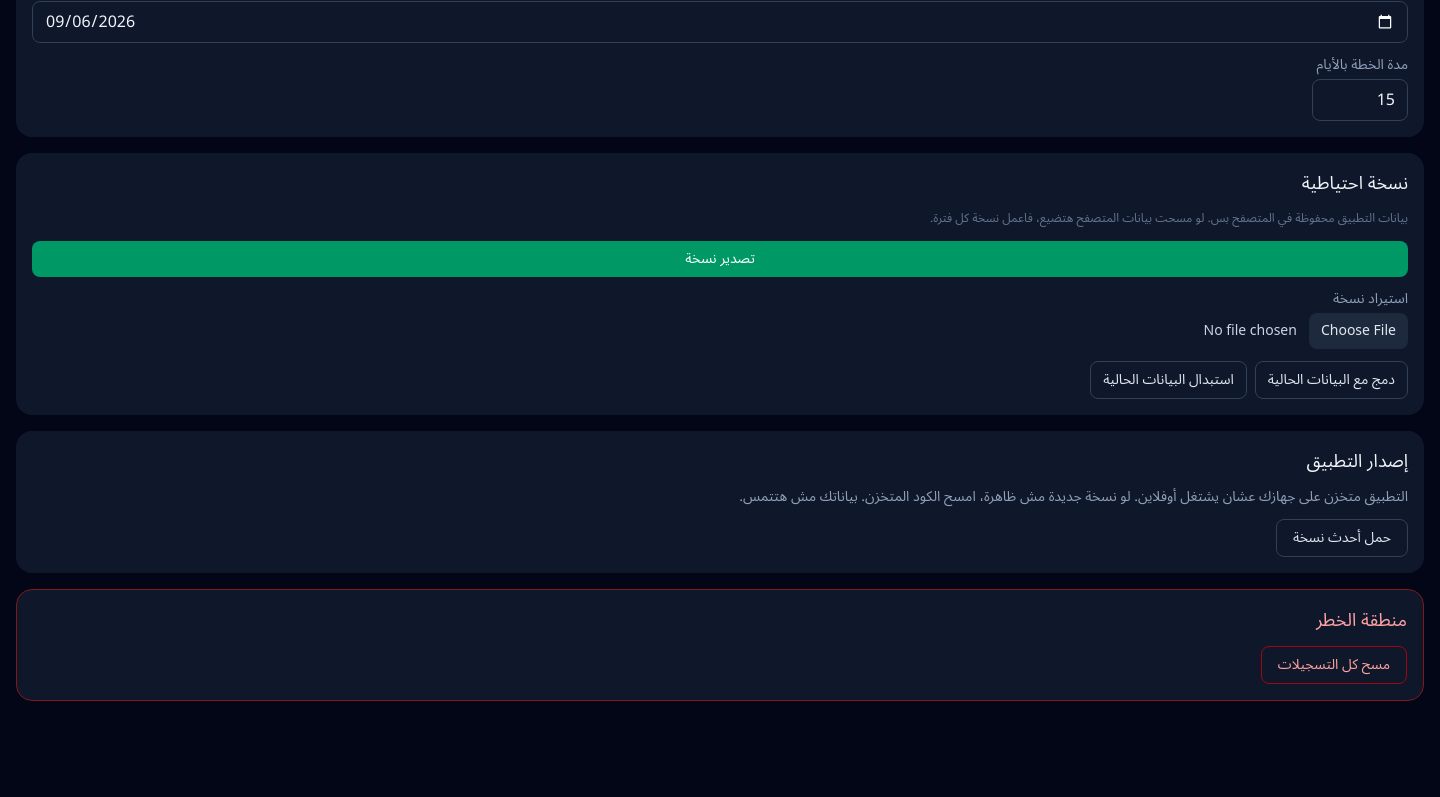
Test case: SettingsScreen › asks for confirmation before deleting every log
The image size is (1440, 797).
(page scrolled)
Click the button "مسح كل التسجيلات" at (1334, 664), box top-left (1261, 646), bottom-right (1407, 684)
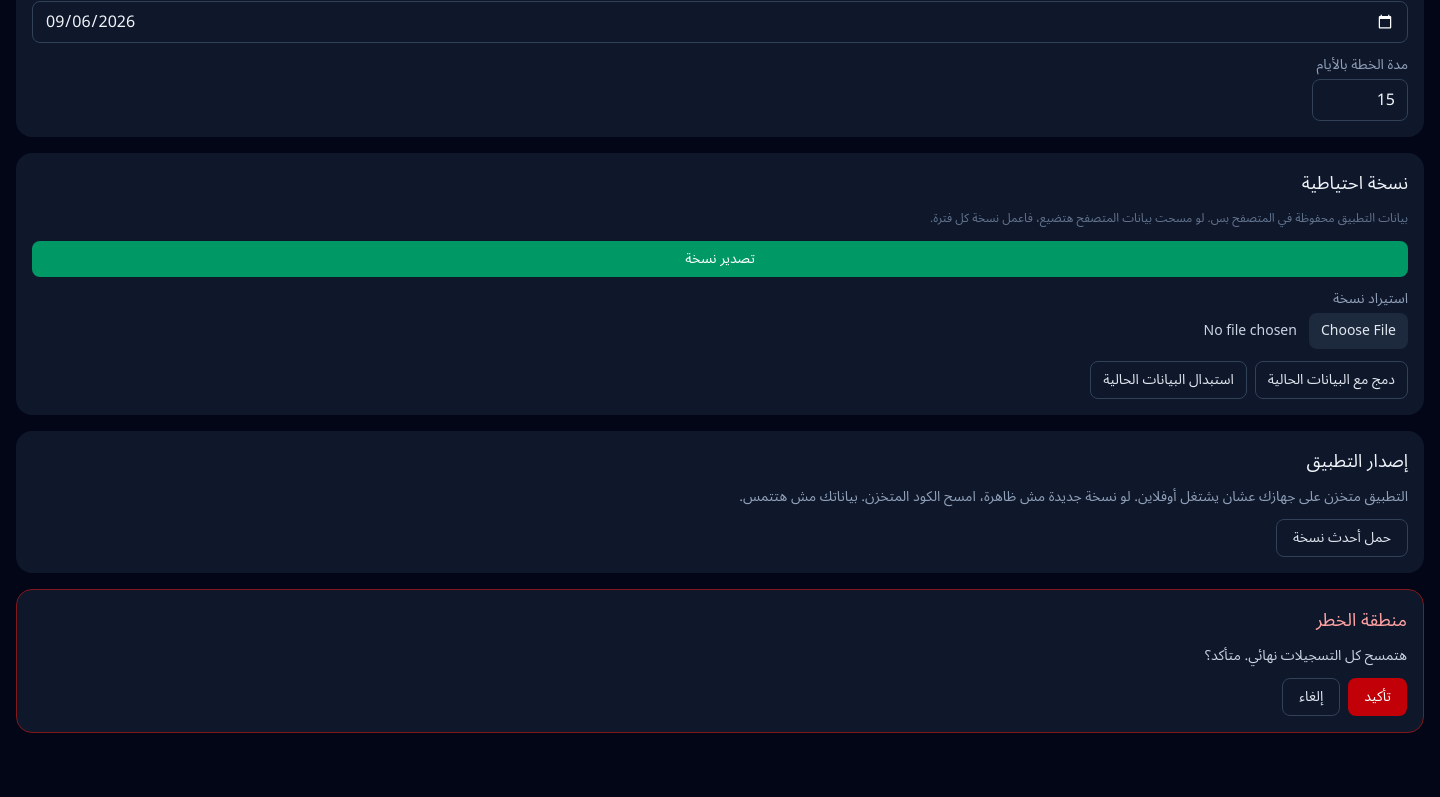
Now the text "هتمسح كل التسجيلات نهائي. متأكد؟" is shown, box top-left (1205, 640), bottom-right (1407, 670)
